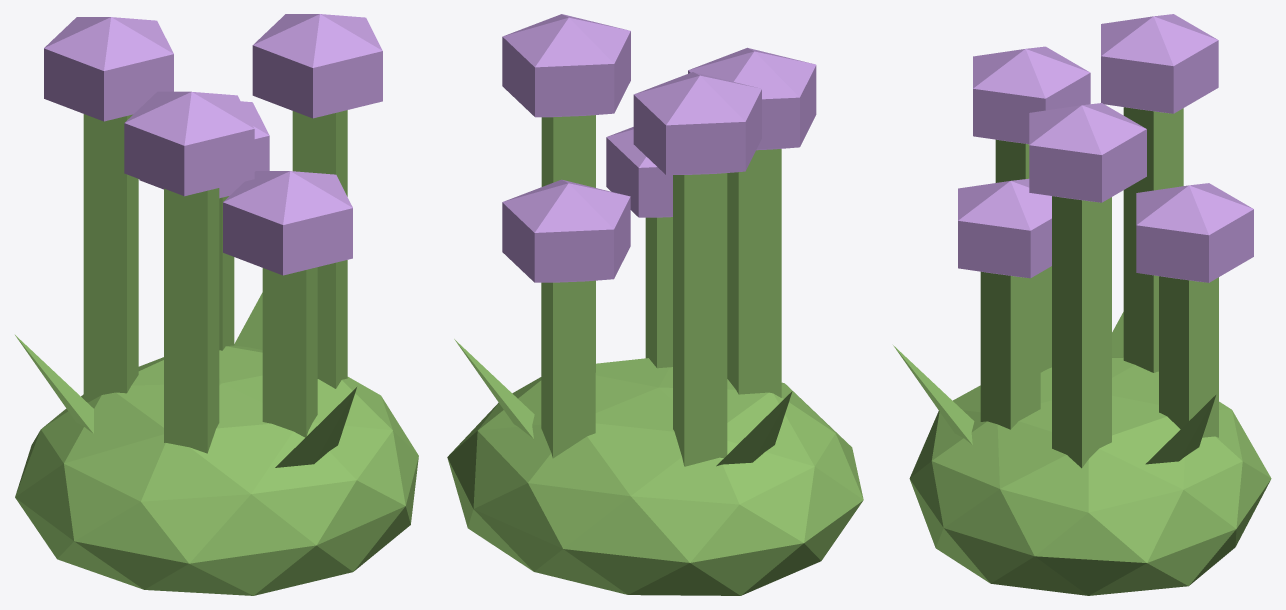
Rendered from flower-clump-lilac.glb.
The picture shows the model from 3 angles, left to right: view 1: azimuth 30°, elevation 25°; view 2: azimuth 150°, elevation 25°; view 3: azimuth 270°, elevation 25°; orthographic projection. The views are drawn at different scales.
Visible parts, largest first — view 1: meadow-flower-clump-lilac; view 2: meadow-flower-clump-lilac; view 3: meadow-flower-clump-lilac.
Boxes of the visible parts, left/top/right/bottom form: meadow-flower-clump-lilac: left=15, top=14, right=418, bottom=595; meadow-flower-clump-lilac: left=447, top=14, right=863, bottom=595; meadow-flower-clump-lilac: left=893, top=14, right=1271, bottom=595.
Size of the model in its own units: 0.2885 by 0.383 by 0.2779.
